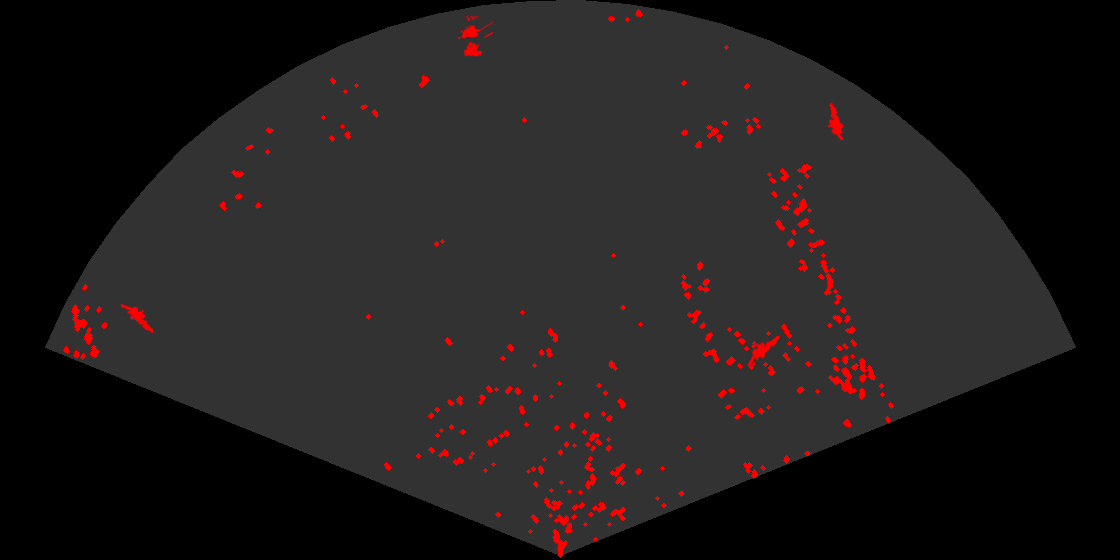cage: (457, 16, 493, 58)
frogman: (121, 302, 159, 334), (746, 332, 781, 366), (826, 100, 846, 140)
